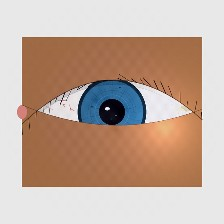pterygium_lesion: (166, 98, 200, 126)
